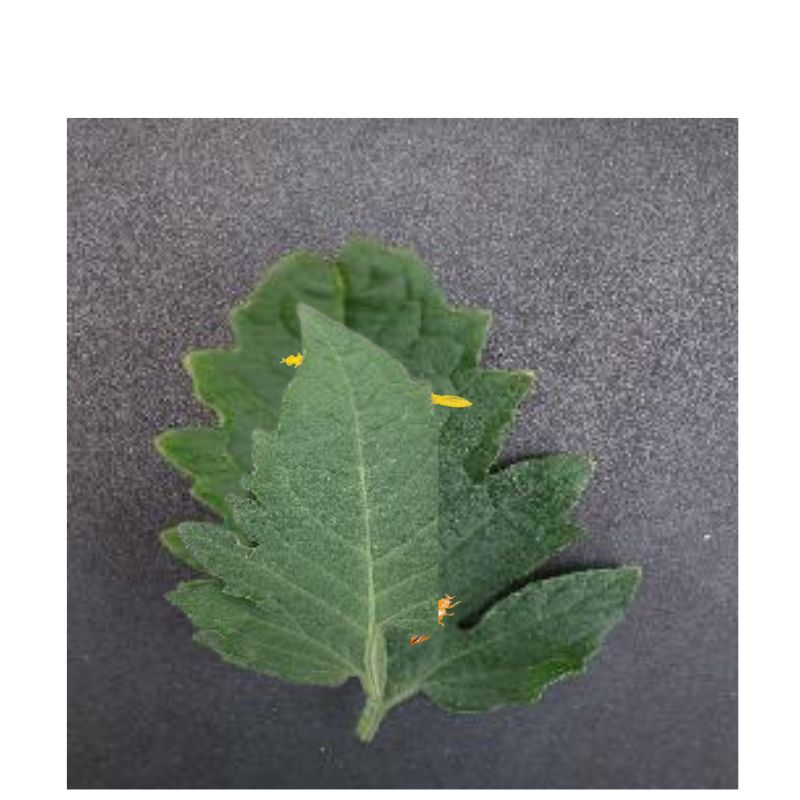thrips: (409, 592, 461, 645), (428, 391, 474, 409), (280, 350, 308, 367)
